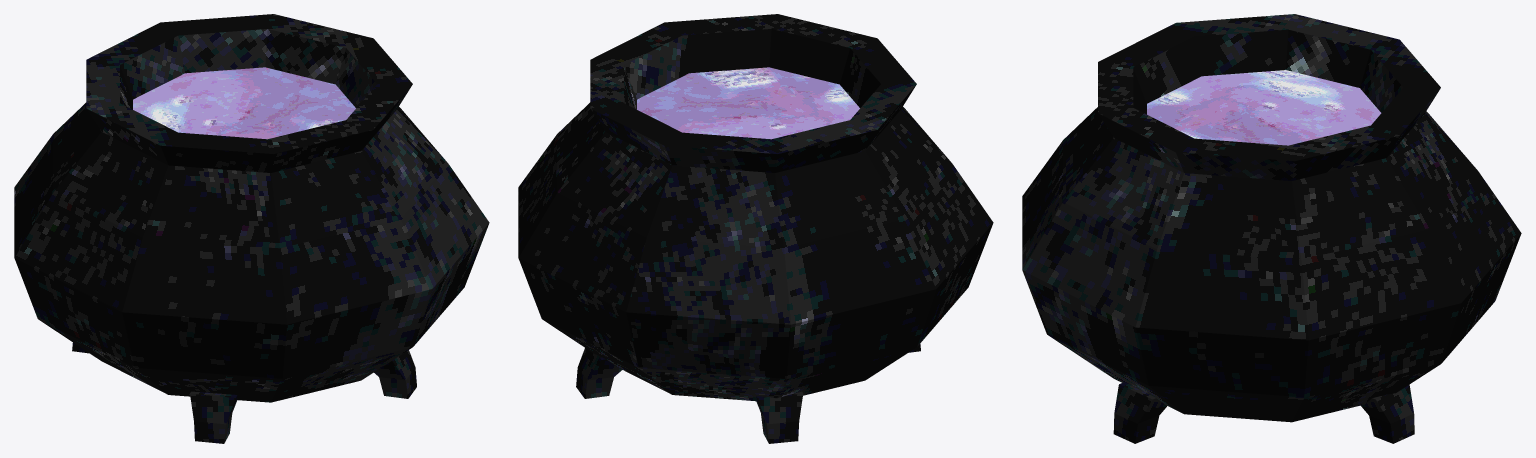
File: purple_cauldron.glb
3 views of the same model, side by side, from view 1: azimuth 30°, elevation 25°; view 2: azimuth 150°, elevation 25°; view 3: azimuth 270°, elevation 25° (orthographic). The views are drawn at different scales.
Visible parts, largest first — view 1: Cylinder; view 2: Cylinder; view 3: Cylinder.
Part boxes in pixels (x1,y1,x2,y2): Cylinder: (14, 14, 489, 443); Cylinder: (518, 14, 993, 443); Cylinder: (1022, 14, 1521, 443).
Bounding box in the file's own units: 3.17 × 2.07 × 3.12.
Materials: 1 (1 with a texture image).
